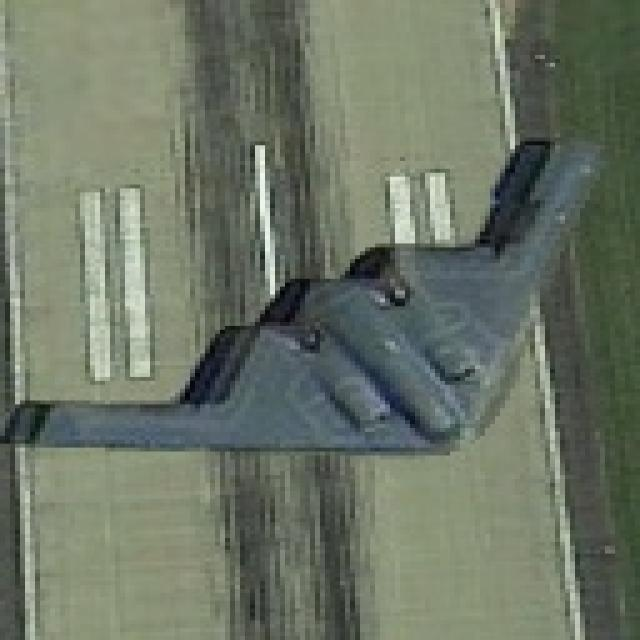B-2_TopDown: (0, 124, 625, 466)
